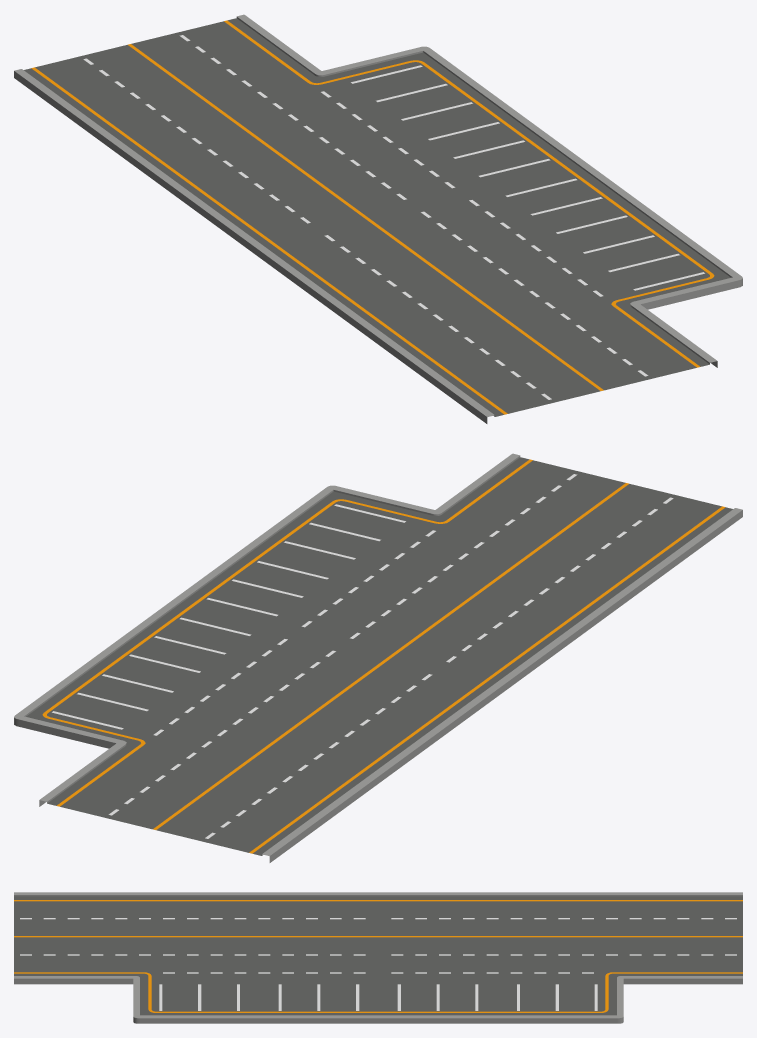
File: ParkingRoad_B_6.fbx
3 views of the same model, one above another, from view 1: azimuth 30°, elevation 25°; view 2: azimuth 150°, elevation 25°; view 3: azimuth 270°, elevation 25° (orthographic). The views are drawn at different scales.
Parts seen in each view (by area): view 1: ParkingRoad_B_6; view 2: ParkingRoad_B_6; view 3: ParkingRoad_B_6.
Boxes of the visible parts, x1,y1,x2,y2 form: ParkingRoad_B_6: (14, 14, 742, 423); ParkingRoad_B_6: (14, 453, 742, 862); ParkingRoad_B_6: (14, 892, 742, 1023).
Bounding box in the file's own units: 2000 × 41.48 × 4893.
